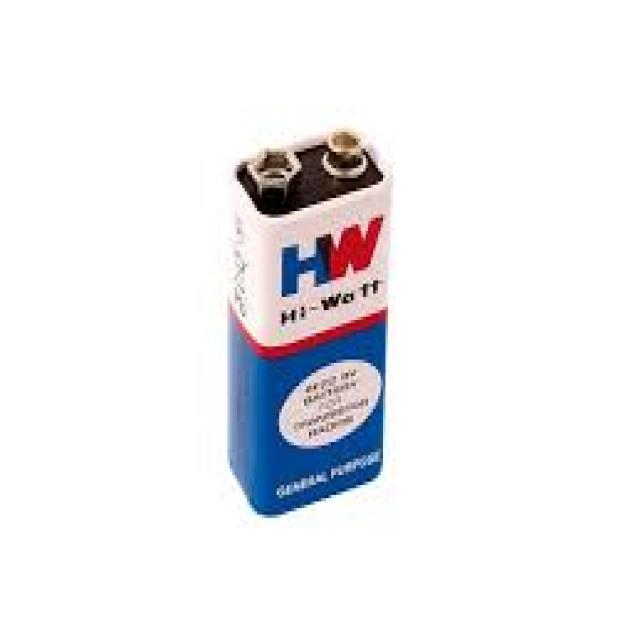Battery: (212, 111, 402, 518), (217, 102, 398, 521), (264, 320, 361, 346)
